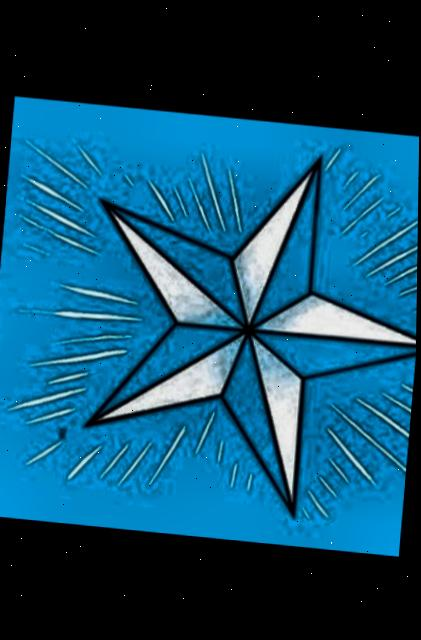La Estrella: (0, 95, 420, 554)
